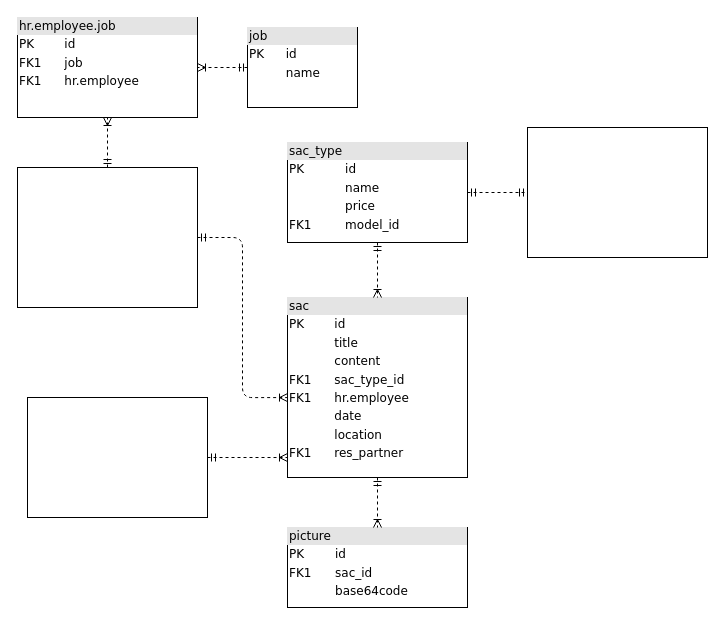
Some shapes in this 725 by 625 pixel diagram are drawn without their labels. The centre of each missing label's shape, as x and y in pixels:
hr.employee PK id name adress_home_id identification_id: the point at 107,237
model PK id FK1 foreignKey fieldname fieldname FK1 foreignKey FK1 foreignKey: the point at 617,192
res_partner PK id name adress id_register: the point at 117,457
